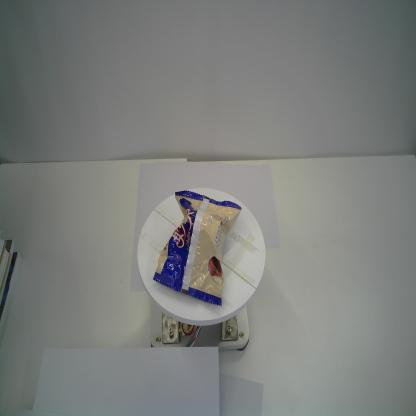Dessert: (154, 190, 242, 306)
